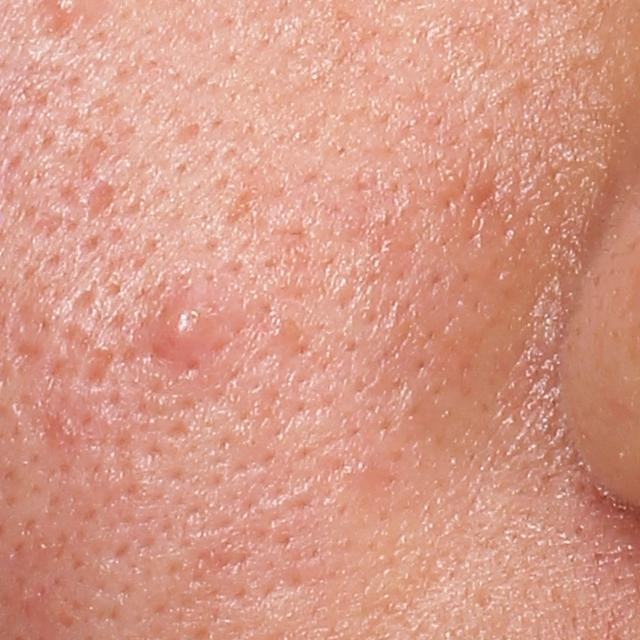atrophic_scar: (72, 346, 117, 397), (85, 178, 114, 225), (9, 340, 46, 366)
comedo: (576, 45, 603, 65)
papule: (146, 285, 248, 361)
